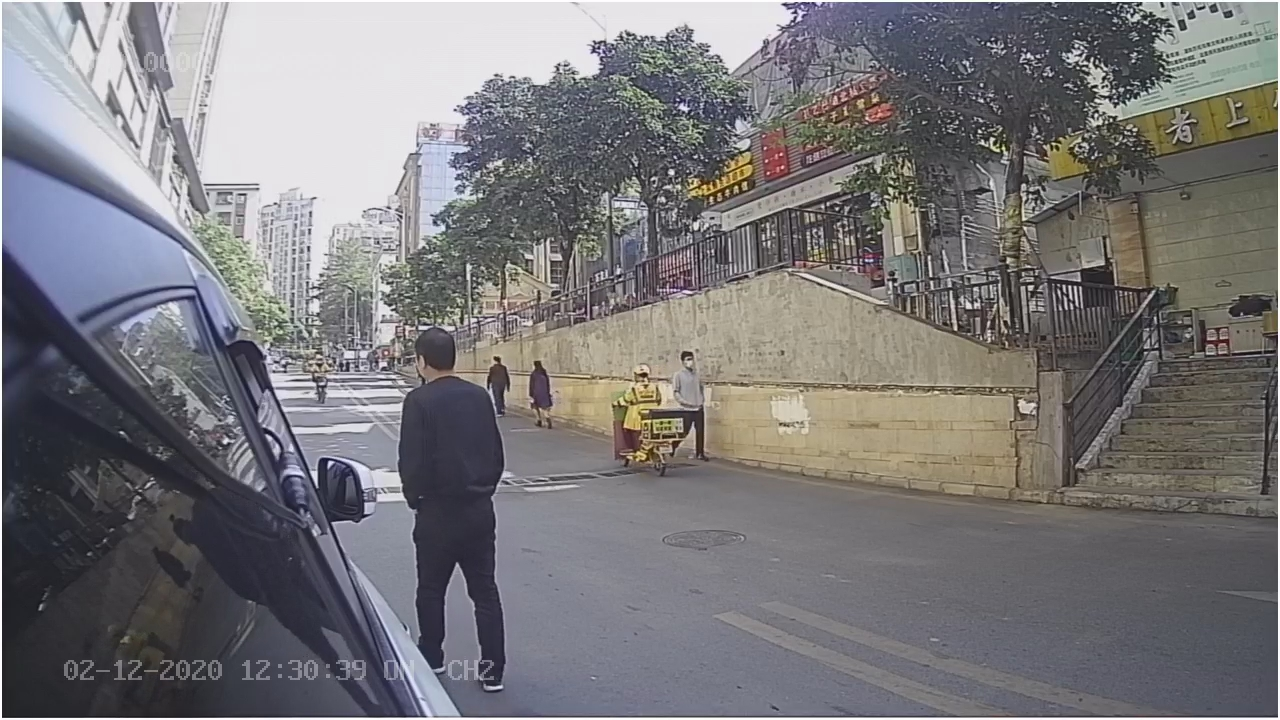person: (390, 321, 517, 656)
